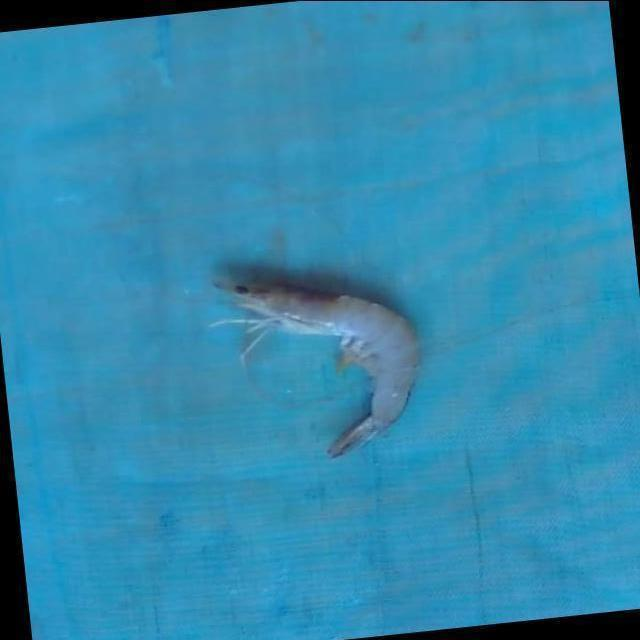shrimp: (217, 284, 418, 458)
